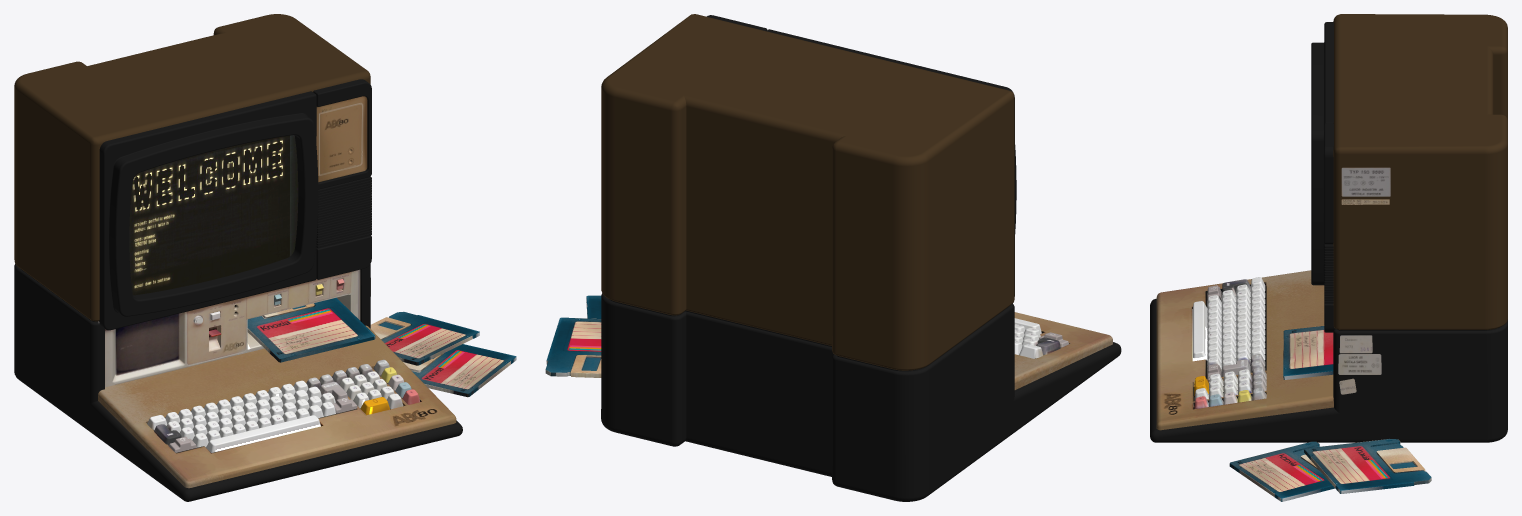
Rendered from compick.glb.
3 renders of one model, left to right at view 1: azimuth 30°, elevation 25°; view 2: azimuth 150°, elevation 25°; view 3: azimuth 270°, elevation 25°, orthographic. The views are drawn at different scales.
Visible parts, largest first — view 1: DanikPC; view 2: DanikPC; view 3: DanikPC.
Part boxes in pixels (x1,y1,x2,y2): DanikPC: (14, 14, 516, 501); DanikPC: (545, 14, 1121, 501); DanikPC: (1150, 14, 1507, 501).
Bounding box in the file's own units: 6.43 × 4.6 × 5.03.
5 materials, 3 textured.
